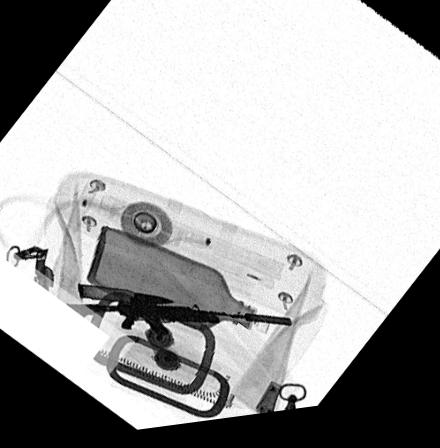Bullet: (77, 287, 176, 312)
Gun: (71, 305, 292, 342)
